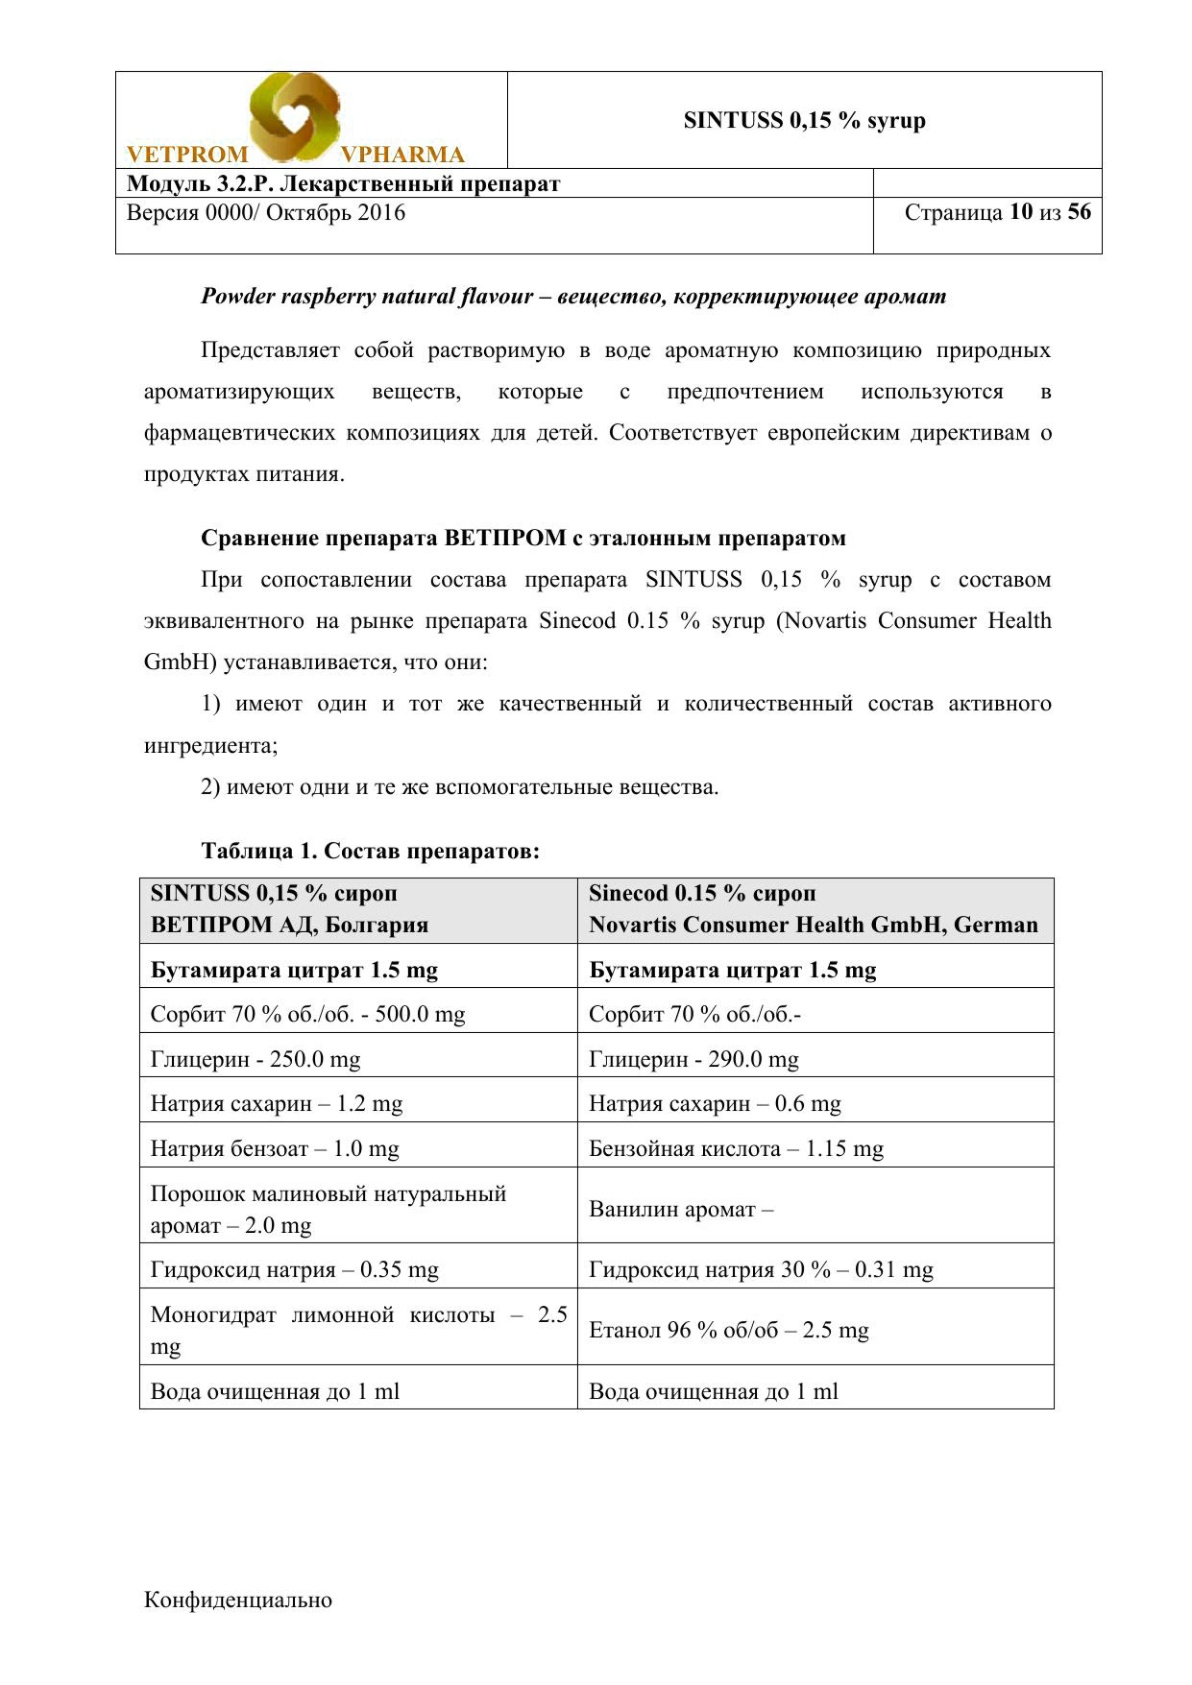full_lined: (138, 875, 1055, 1411)
merged_cells: (114, 68, 1103, 255)
